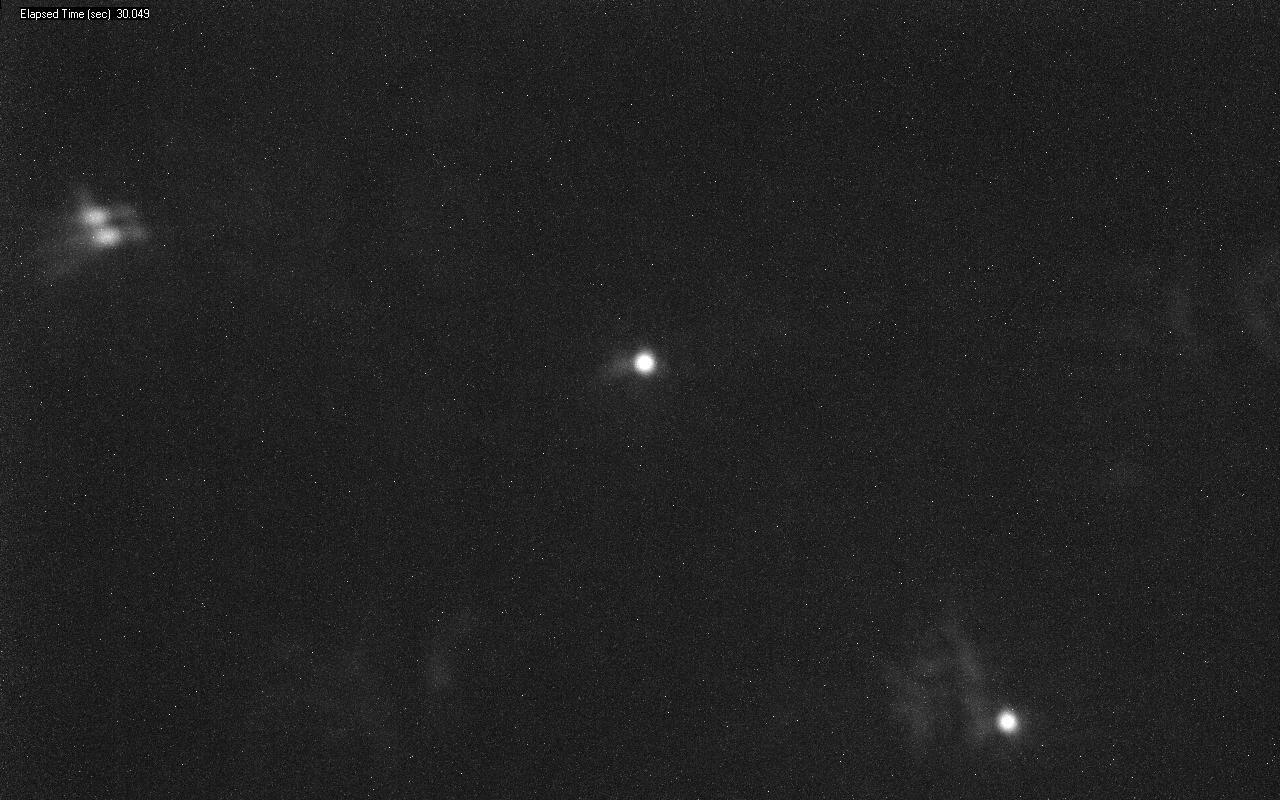Bead: (996, 708, 1019, 735), (632, 350, 656, 375)
